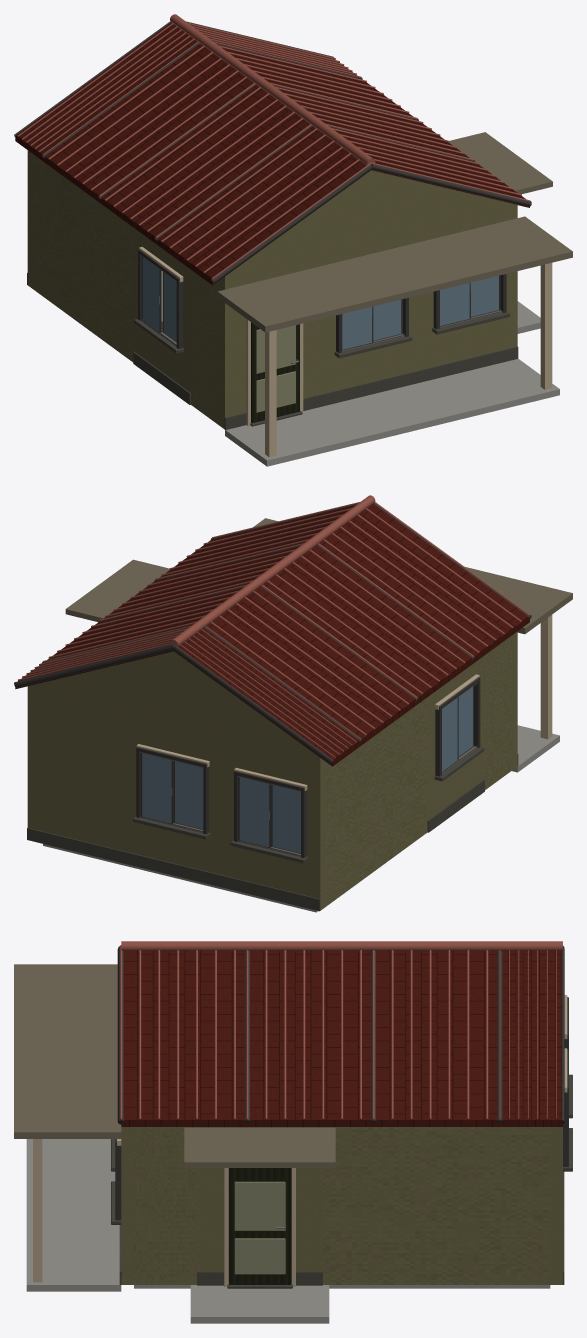
File: MS_HV_04_CornerEntryHouse.glb
3 renders of one model, top to bottom at view 1: azimuth 30°, elevation 25°; view 2: azimuth 150°, elevation 25°; view 3: azimuth 270°, elevation 25°, orthographic. The views are drawn at different scales.
Visible parts, largest first — view 1: StaticBatch32, StaticBatch2, StaticBatch23, StaticBatch24, StaticBatch8, StaticBatch42, Plaster_005, StaticBatch3, StaticBatch6, StaticBatch33, RaisedPanel, Leaf_001 (+11 smaller); view 2: StaticBatch2, StaticBatch32, StaticBatch23, StaticBatch42, StaticBatch24, StaticBatch3, StaticBatch6, Glass_0014, Glass_0013, Glass3, Glass4, StaticBatch33 (+10 smaller); view 3: StaticBatch32, StaticBatch2, StaticBatch24, StaticBatch8, StaticBatch23, Plaster_0052, RaisedPanel2, StaticBatch6, Leaf_0012, StaticBatch33, Frame_0042, StaticBatch5 (+4 smaller).
Boxes of the visible parts, x1=… form: StaticBatch32: x1=15, y1=22, x2=529, y2=285; StaticBatch2: x1=27, y1=150, x2=517, y2=425; StaticBatch23: x1=18, y1=14, x2=530, y2=278; StaticBatch24: x1=217, y1=132, x2=572, y2=332; StaticBatch8: x1=225, y1=301, x2=559, y2=466; StaticBatch42: x1=226, y1=170, x2=516, y2=275; Plaster_005: x1=219, y1=252, x2=322, y2=429; StaticBatch3: x1=27, y1=273, x2=518, y2=406; StaticBatch6: x1=14, y1=21, x2=531, y2=283; StaticBatch33: x1=265, y1=263, x2=552, y2=457; RaisedPanel: x1=256, y1=325, x2=295, y2=412; Leaf_001: x1=251, y1=322, x2=299, y2=422; StaticBatch2: x1=27, y1=635, x2=511, y2=910; StaticBatch32: x1=15, y1=504, x2=529, y2=766; StaticBatch23: x1=18, y1=495, x2=530, y2=757; StaticBatch42: x1=28, y1=651, x2=319, y2=757; StaticBatch24: x1=65, y1=518, x2=572, y2=634; StaticBatch3: x1=124, y1=746, x2=484, y2=911; StaticBatch6: x1=14, y1=503, x2=531, y2=764; Glass_0014: x1=239, y1=777, x2=269, y2=846; Glass_0013: x1=142, y1=753, x2=171, y2=823; Glass3: x1=175, y1=761, x2=203, y2=829; Glass4: x1=272, y1=785, x2=300, y2=853; StaticBatch33: x1=540, y1=615, x2=552, y2=739; StaticBatch32: x1=121, y1=951, x2=562, y2=1126; StaticBatch2: x1=121, y1=1127, x2=562, y2=1284; StaticBatch24: x1=14, y1=964, x2=335, y2=1167; StaticBatch8: x1=26, y1=1139, x2=329, y2=1323; StaticBatch23: x1=120, y1=941, x2=562, y2=1119; Plaster_0052: x1=197, y1=1127, x2=322, y2=1271; RaisedPanel2: x1=234, y1=1181, x2=285, y2=1274; StaticBatch6: x1=117, y1=946, x2=564, y2=1124; Leaf_0012: x1=229, y1=1168, x2=291, y2=1284; StaticBatch33: x1=33, y1=1139, x2=42, y2=1282; Frame_0042: x1=224, y1=1168, x2=295, y2=1286; StaticBatch5: x1=134, y1=1285, x2=550, y2=1288.
Bounding box in the file's own units: 7.57 × 4.77 × 8.86.
Materials: 23 (6 with a texture image).
